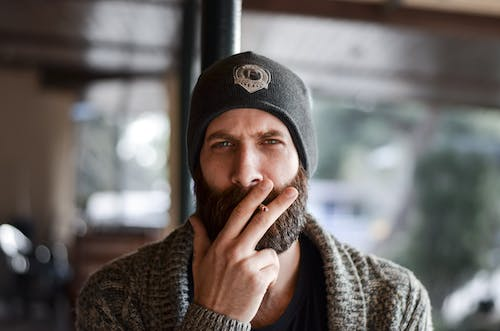cigarette: (258, 202, 269, 213)
